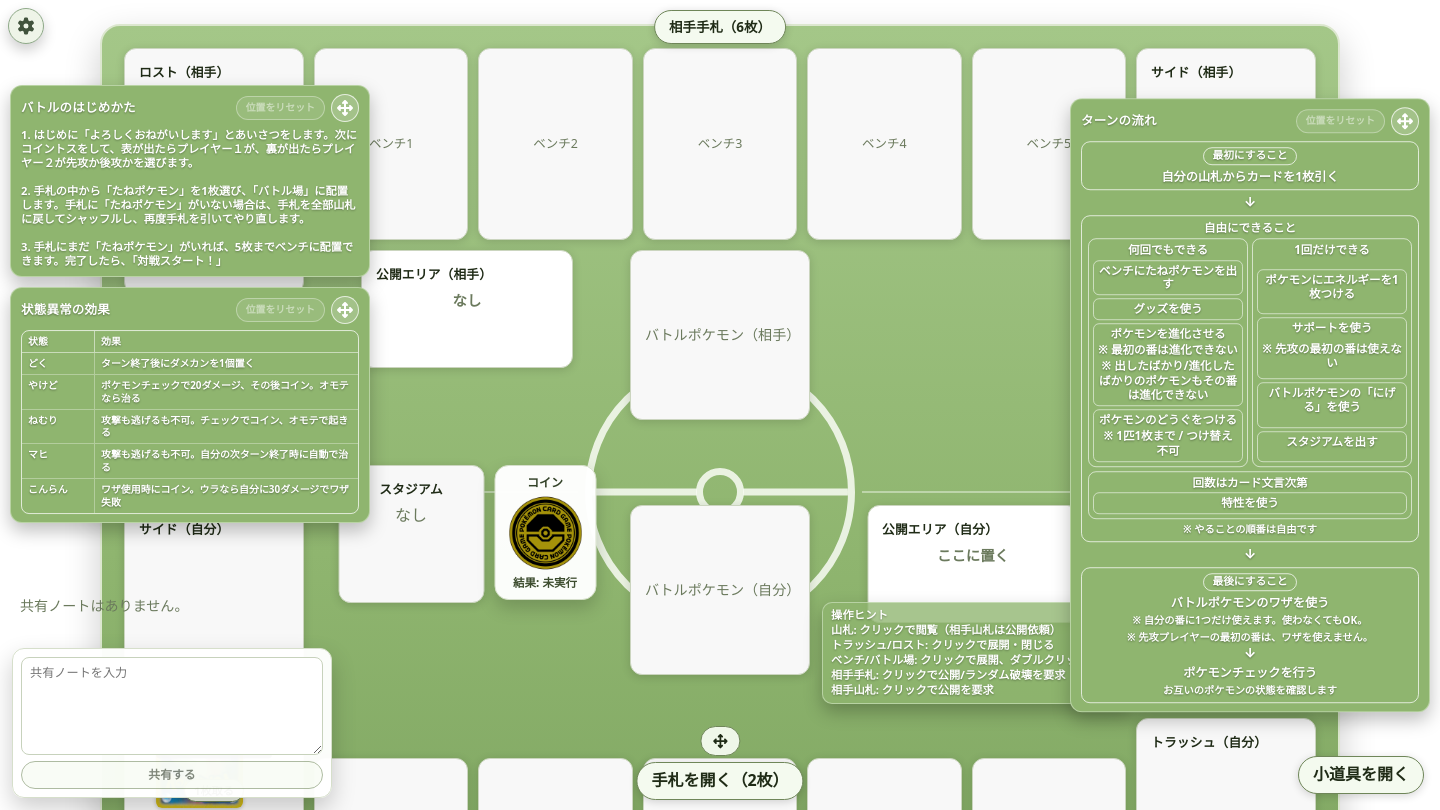
Test: toolbox toggle updates aria-expanded and renders tool items
This screenshot has width=1440, height=810.
Click the button "小道具を開く": (1361, 775) [1298, 756, 1424, 794]
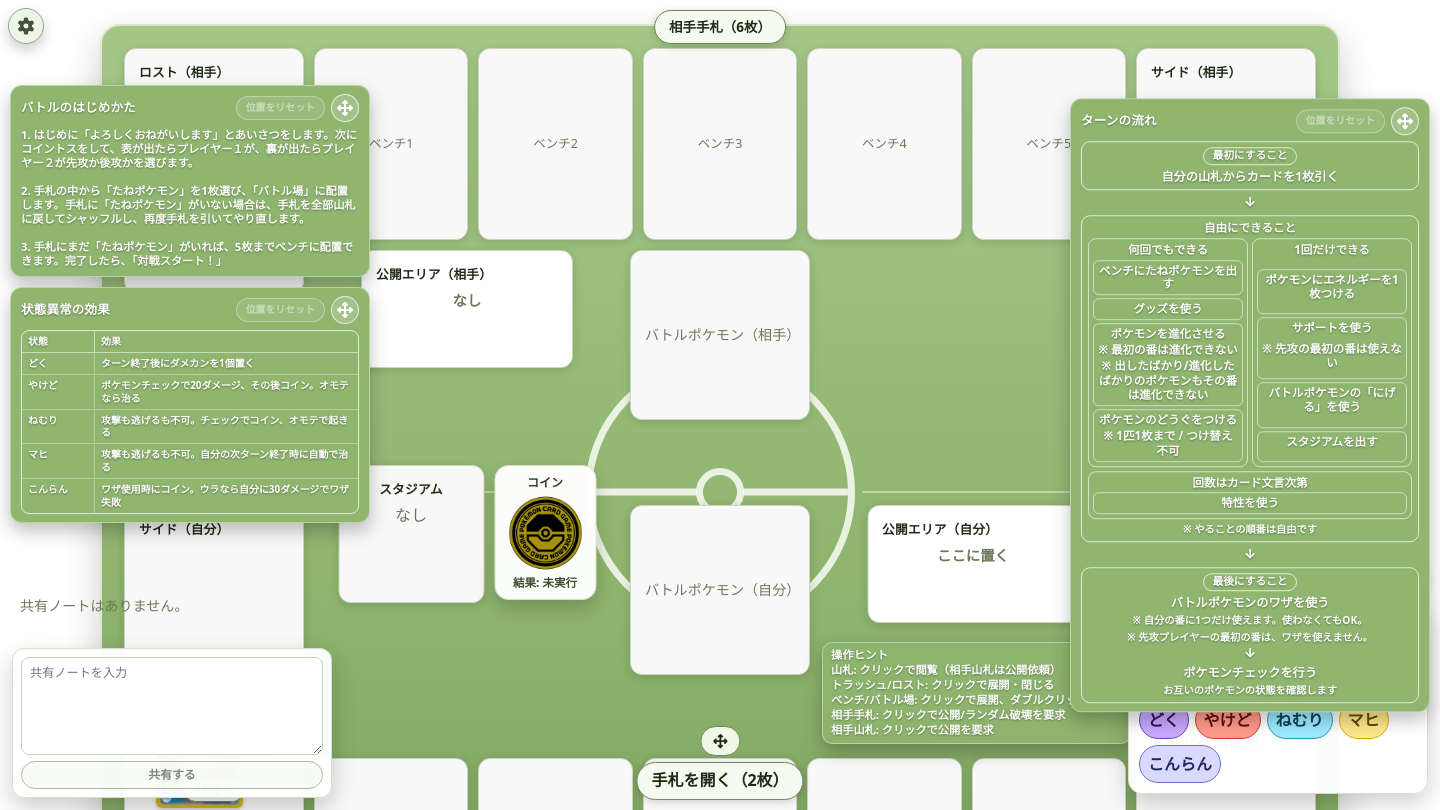
Expected: the button named "ダメカン 10" is shown, [1139, 636, 1175, 674]
Expected: the button with aria-label "状態異常 どく" is shown, [1139, 701, 1188, 739]
